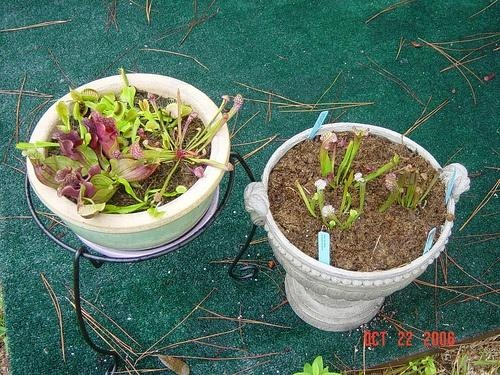pottedplant: (246, 114, 472, 333), (22, 68, 245, 261)
